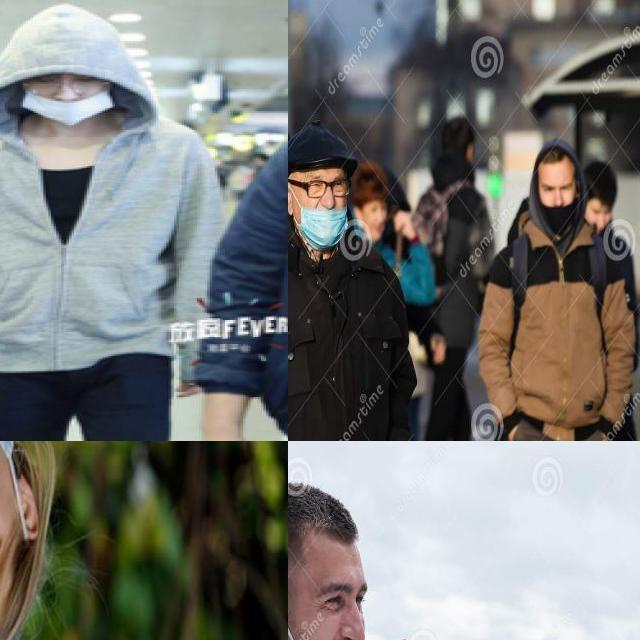hairnet: (23, 88, 114, 127), (295, 192, 348, 248), (541, 192, 576, 232)
